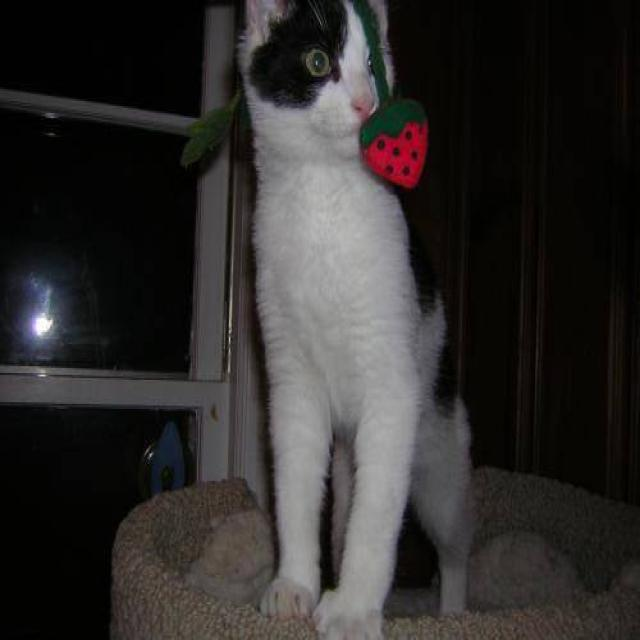cat: (234, 0, 477, 638)
